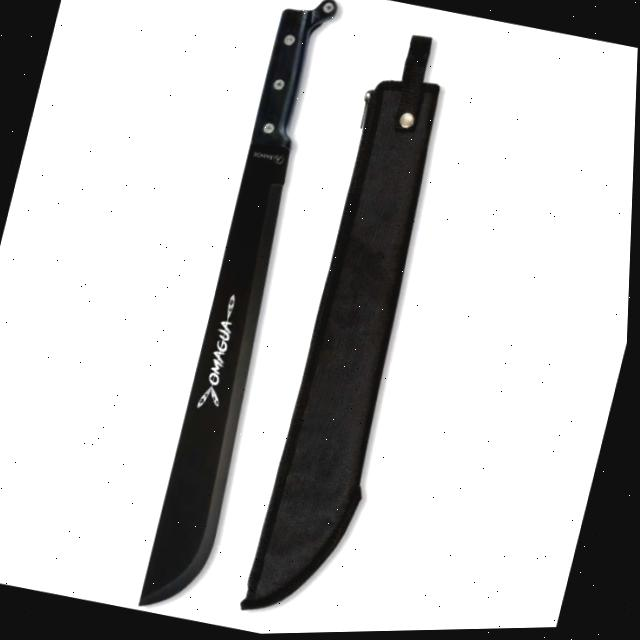long knife: (125, 0, 369, 626)
